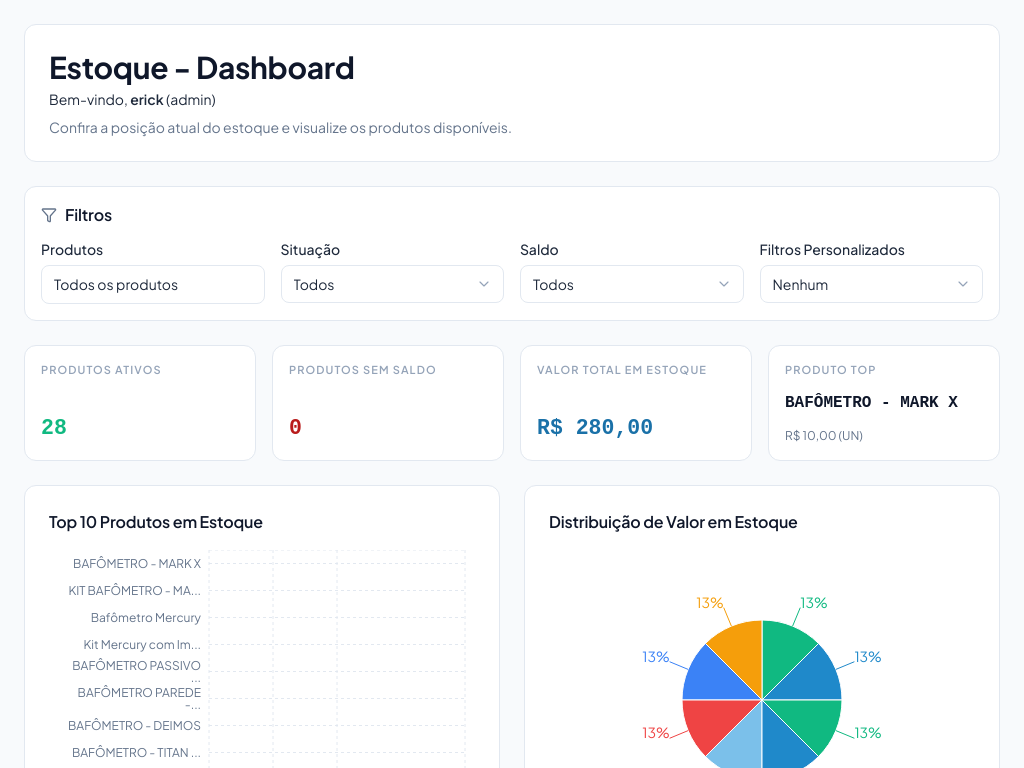
Scenario: principal que sumiu do Tiny › faltando um, o filtro diz qual, com codigo e nome
The image size is (1024, 768).
Select "Principais" in the dropdown labelled "Filtros Personalizados": (871, 284) [760,265,983,303]
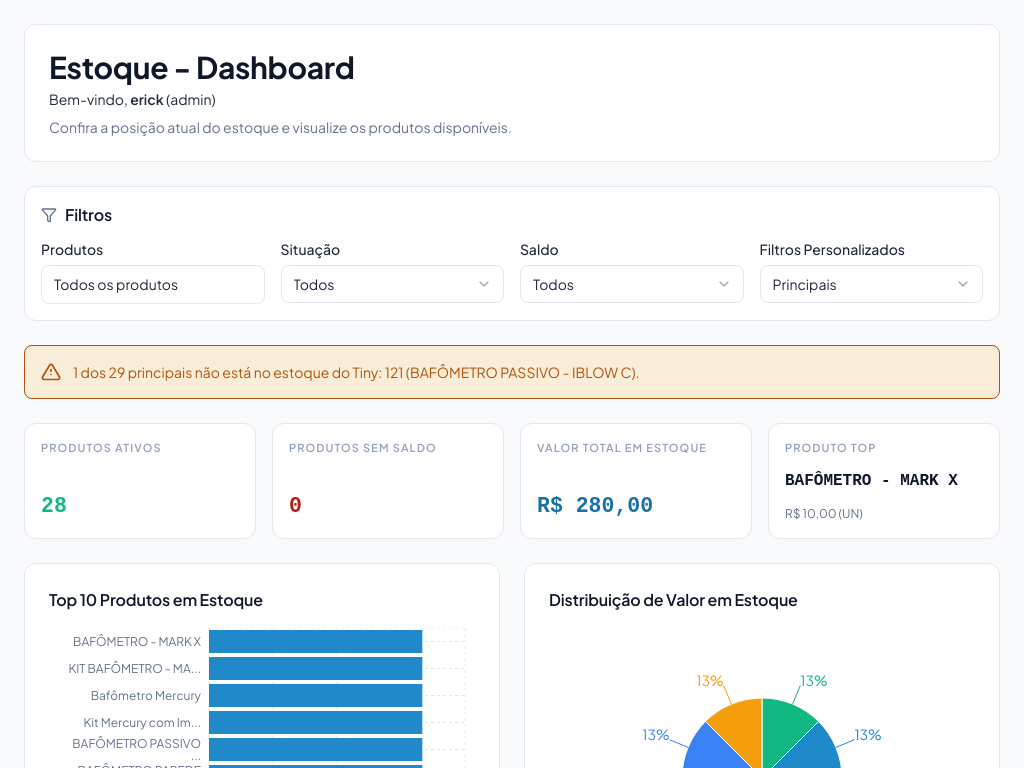
Expected: the text "1 dos 29 principais não está no estoque do Tiny: 121 (BAFÔMETRO PASSIVO - IBLOW C)." is shown, [73,363,640,381]
